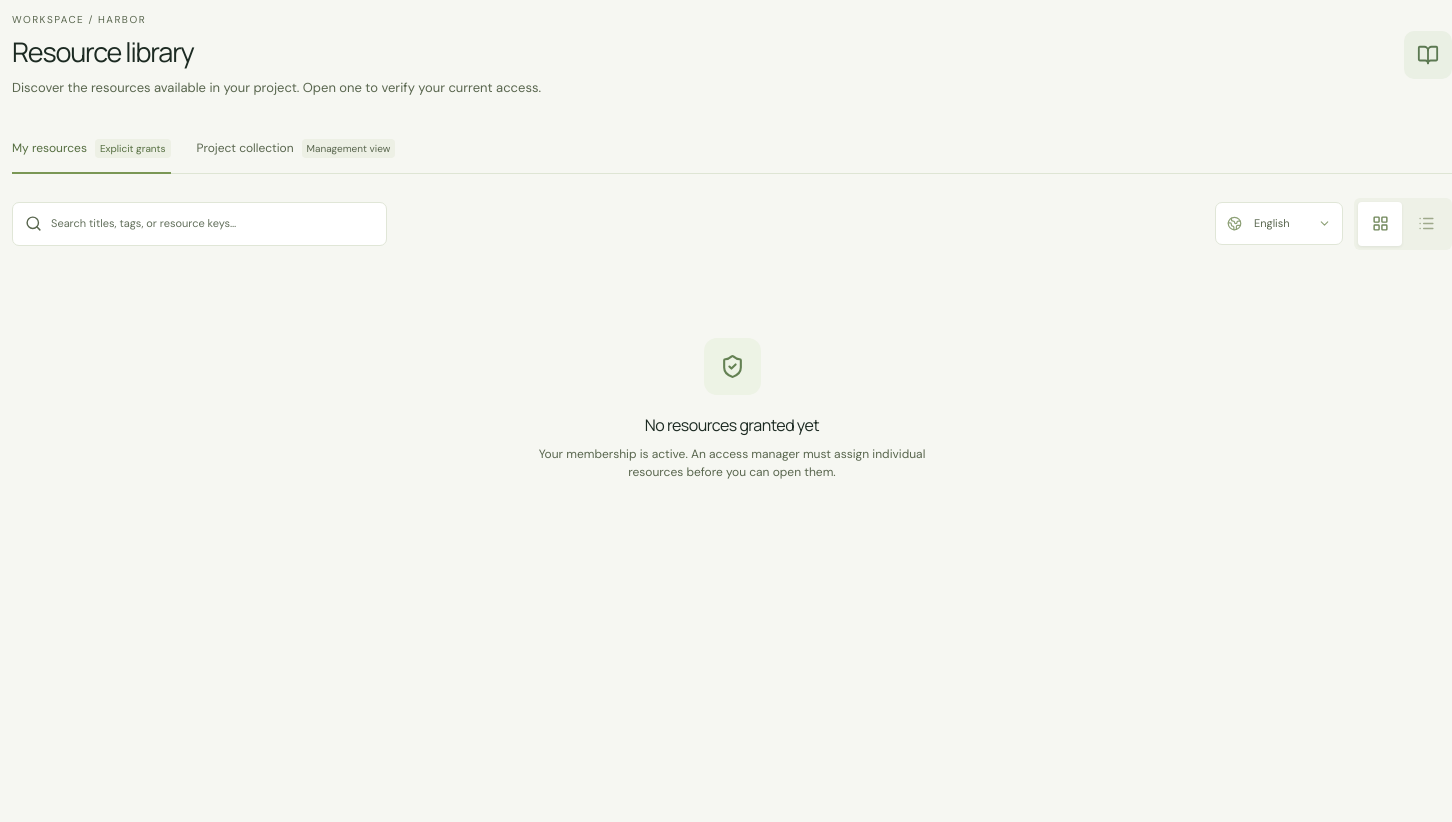
resource panel recovery › distinguishes missing entitlements from missing personal grants and offers a search reset
Expected: the heading "No resources granted yet" is shown, left=645, top=413, right=819, bottom=437
Click the button "Project collection Management view".
click(296, 149)  # box left=196, top=125, right=395, bottom=173
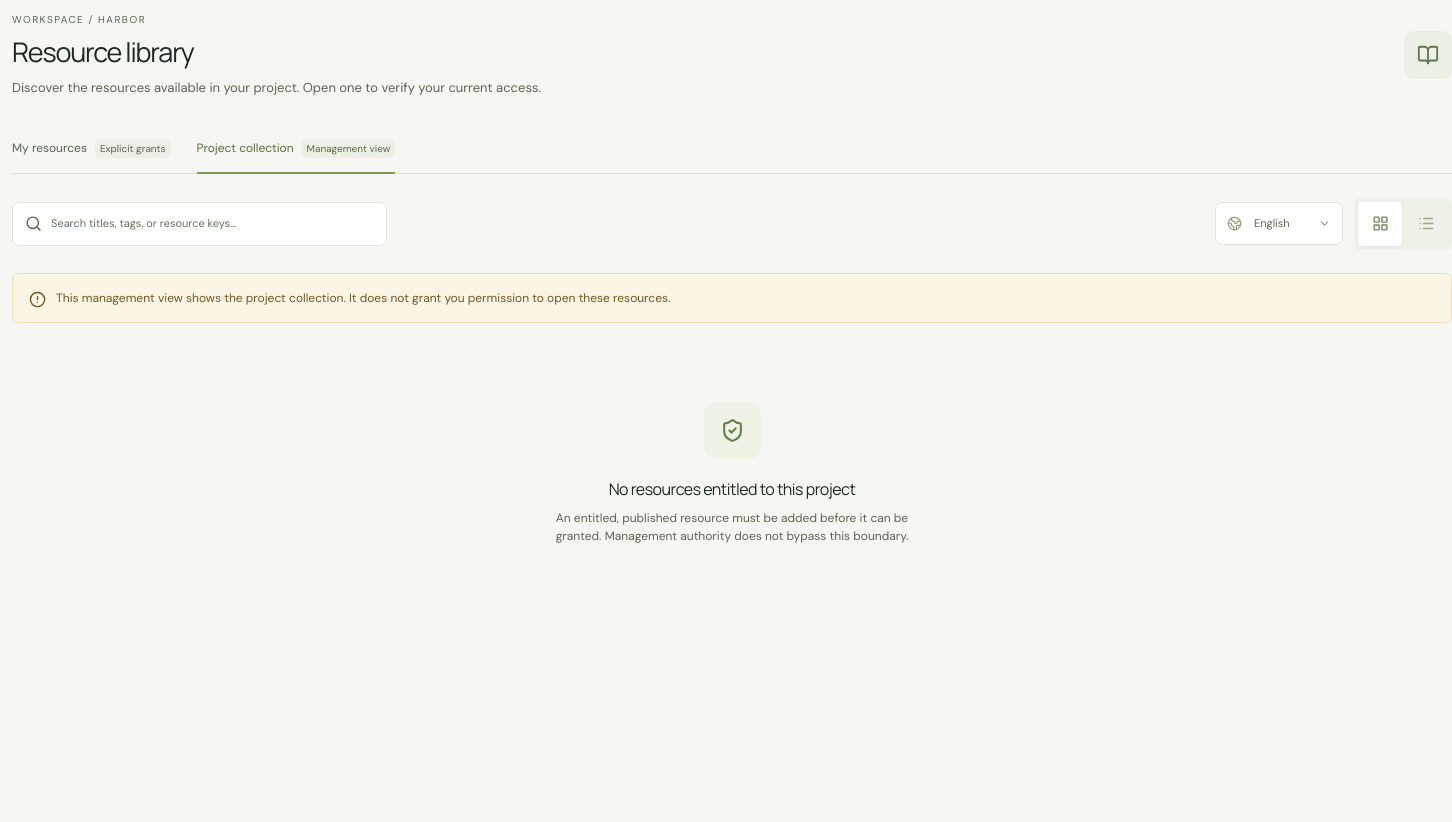
Now the heading "No resources entitled to this project" is shown, box left=609, top=477, right=855, bottom=501
Type "unmatched" into the search field.
click(212, 224); type("unmatched")  # box left=51, top=206, right=374, bottom=241
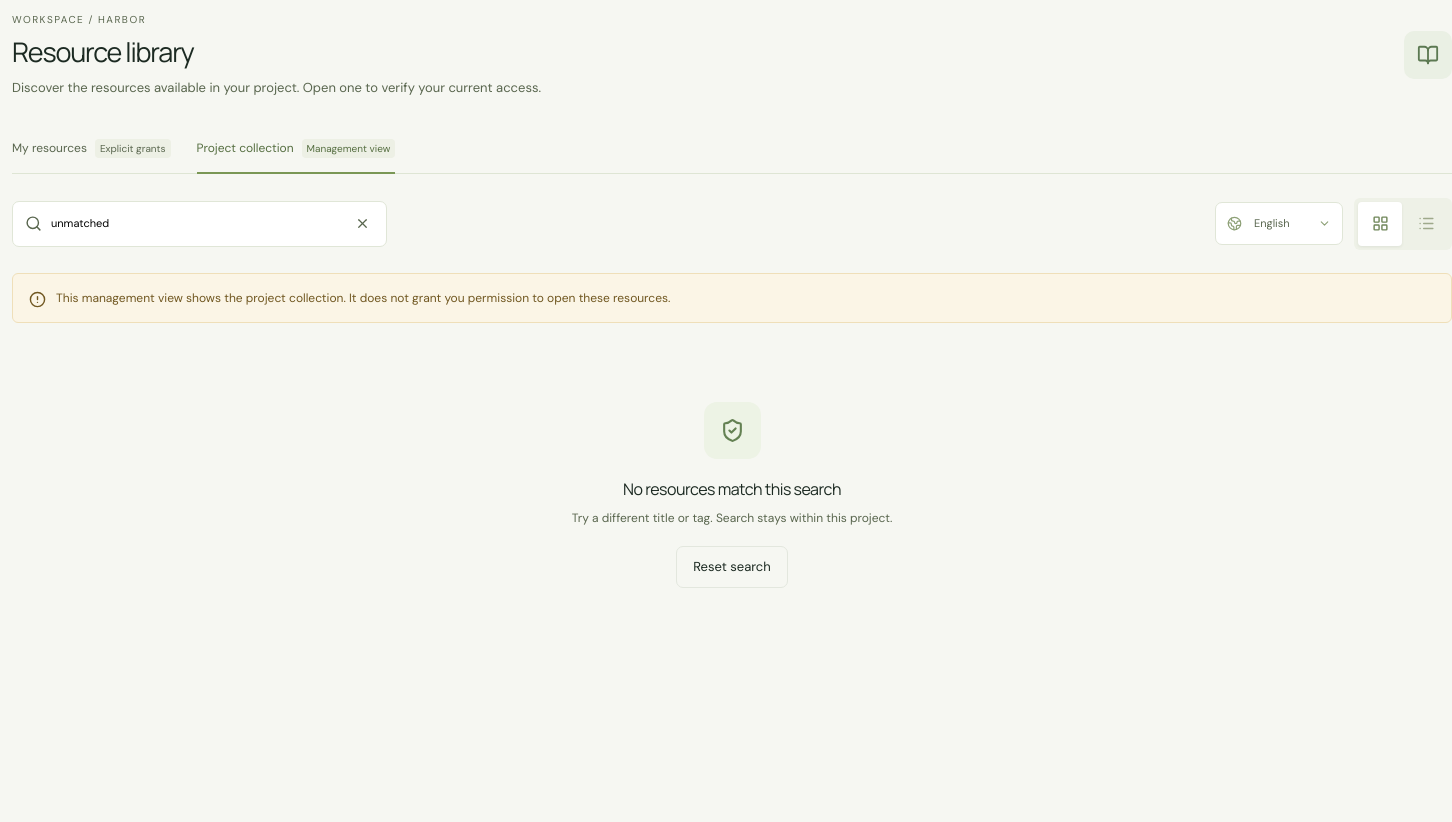
Now the heading "No resources match this search" is shown, box left=623, top=477, right=841, bottom=501
Click the button "Reset search".
click(732, 567)  # box left=676, top=546, right=788, bottom=588
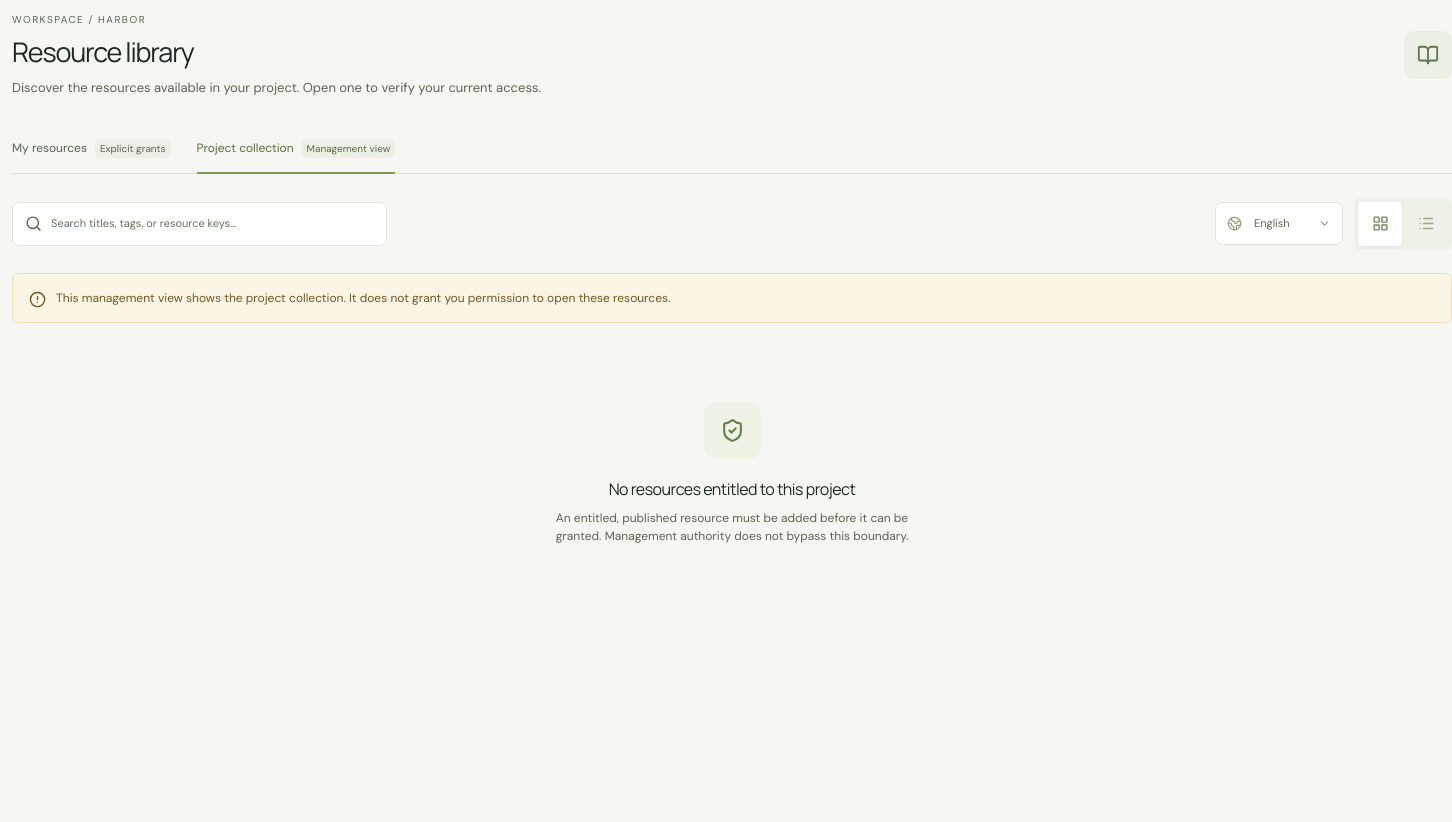
Now the search field is empty, box left=51, top=206, right=374, bottom=241
Now the heading "No resources entitled to this project" is shown, box left=609, top=477, right=855, bottom=501
